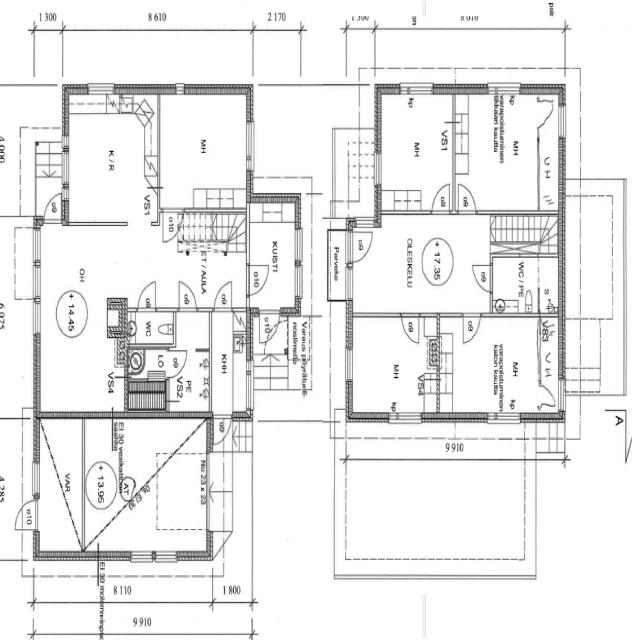door: (348, 222, 374, 264), (258, 307, 284, 348), (159, 207, 185, 246), (245, 260, 270, 298), (13, 498, 40, 532), (135, 278, 159, 312), (175, 278, 199, 311), (471, 261, 494, 294), (430, 180, 452, 214), (165, 346, 188, 378), (213, 278, 235, 311), (456, 181, 478, 213), (42, 191, 64, 223), (212, 411, 232, 446), (462, 311, 482, 345), (400, 311, 420, 344)
window: (243, 115, 257, 175), (243, 356, 255, 413), (484, 409, 523, 426), (60, 136, 72, 190), (293, 248, 305, 302), (386, 408, 424, 425), (149, 546, 180, 566), (398, 81, 435, 97), (85, 79, 117, 97), (29, 297, 43, 337), (128, 546, 158, 564), (292, 223, 304, 267), (486, 81, 523, 95), (30, 456, 42, 499), (556, 101, 568, 143), (344, 342, 355, 383), (345, 264, 356, 302), (373, 150, 383, 188), (556, 378, 566, 412), (173, 80, 187, 98)
zone: (38, 416, 210, 556), (35, 223, 126, 416), (354, 212, 482, 313), (440, 314, 556, 418), (65, 94, 156, 226), (454, 91, 552, 213), (156, 91, 250, 210), (348, 314, 439, 418), (378, 92, 454, 212), (246, 200, 299, 311), (166, 311, 210, 413), (489, 252, 556, 314), (126, 346, 169, 414), (126, 308, 174, 348), (539, 255, 561, 312)
